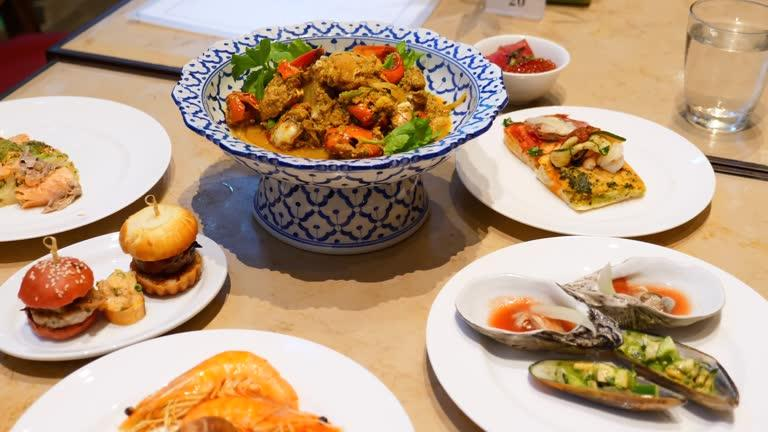Braised Crucian Carp: (425, 233, 767, 432), (174, 20, 499, 182), (0, 205, 227, 365), (458, 103, 712, 236)
